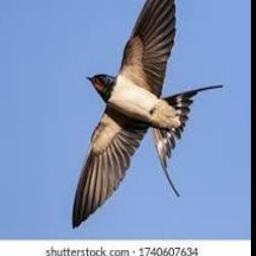Swallow: (72, 0, 224, 230)
